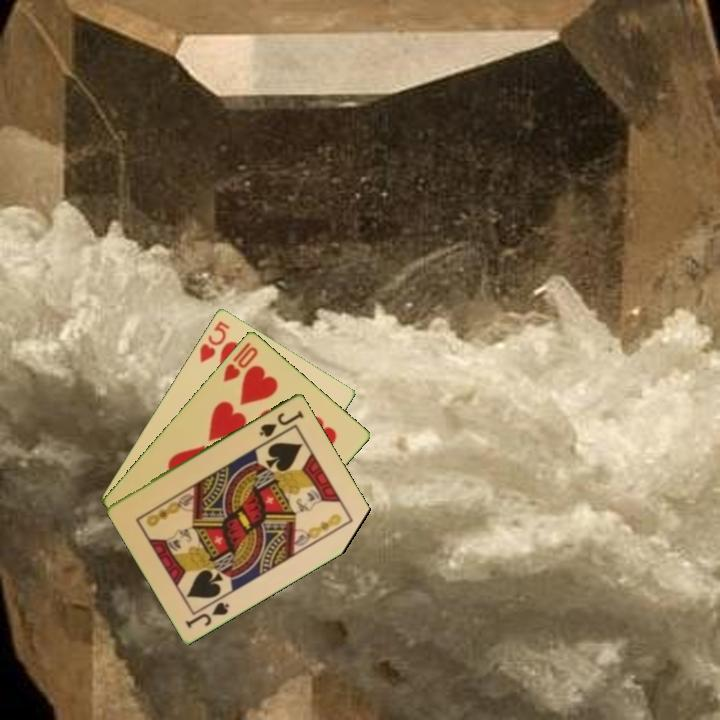10h: (219, 343, 261, 385)
5h: (196, 317, 232, 365)
Js: (256, 407, 306, 440), (182, 598, 232, 631)
